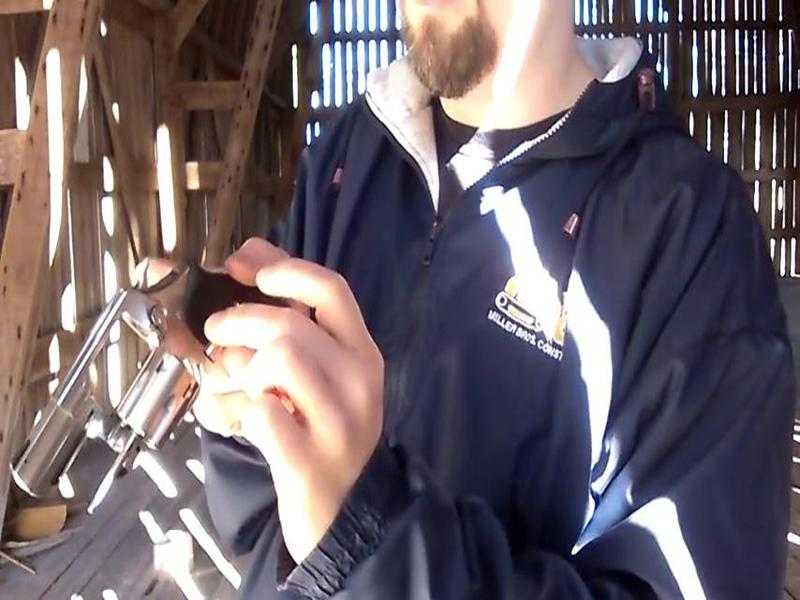Revolver: (4, 244, 341, 543)
